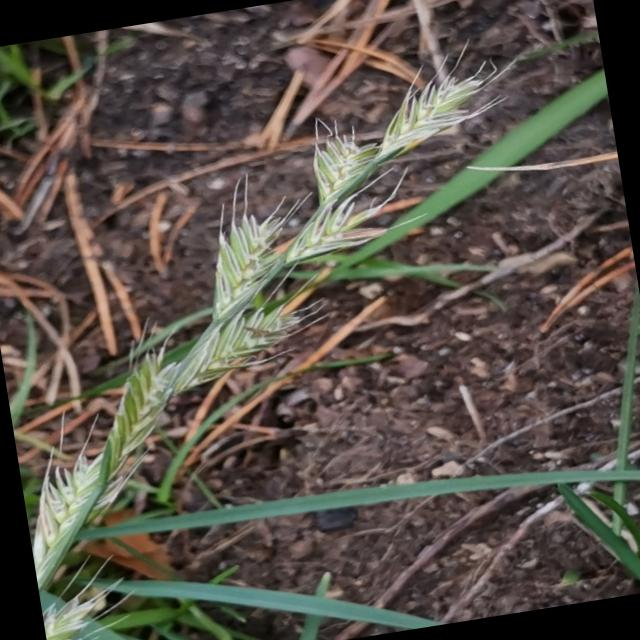Lolium: (0, 44, 578, 603)
